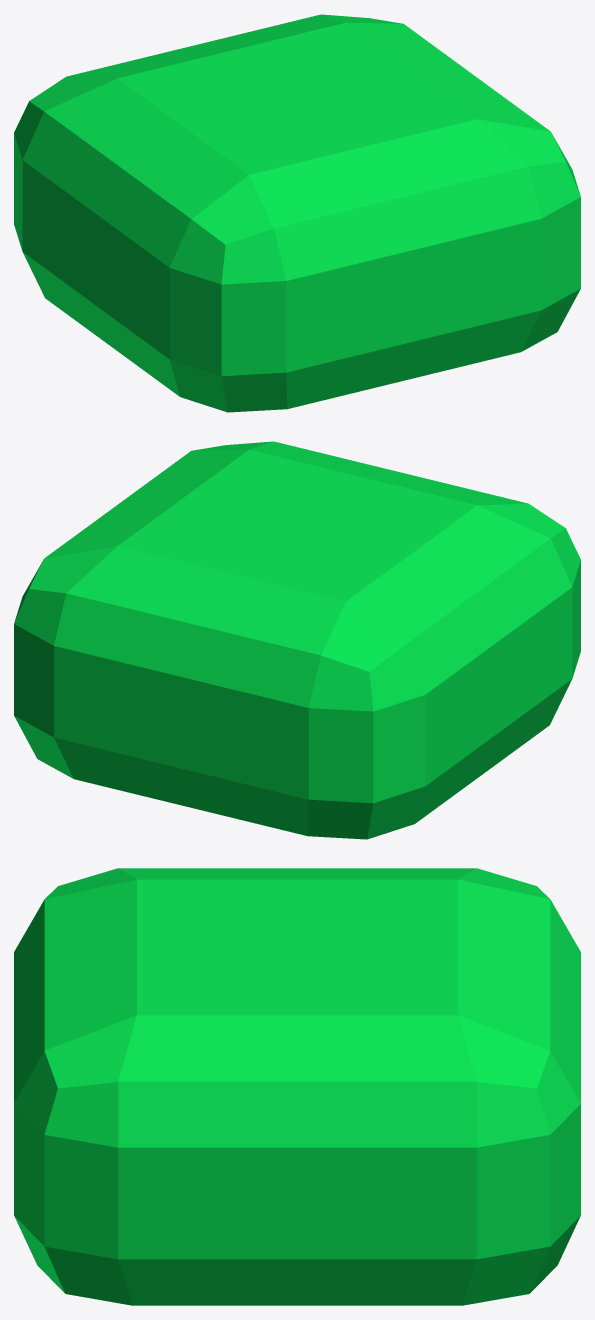
File: Bush_VAR1_v003.fbx
The picture shows the model from 3 angles, top to bottom: view 1: azimuth 30°, elevation 25°; view 2: azimuth 150°, elevation 25°; view 3: azimuth 270°, elevation 25°; orthographic projection. The views are drawn at different scales.
Visible parts, largest first — view 1: Cube; view 2: Cube; view 3: Cube.
Part boxes in pixels (x1,y1,x2,y2): Cube: (14,14,580,412); Cube: (14,441,580,839); Cube: (14,868,580,1305).
Size of the model in its own units: 1.06 by 0.5139 by 1.06.
